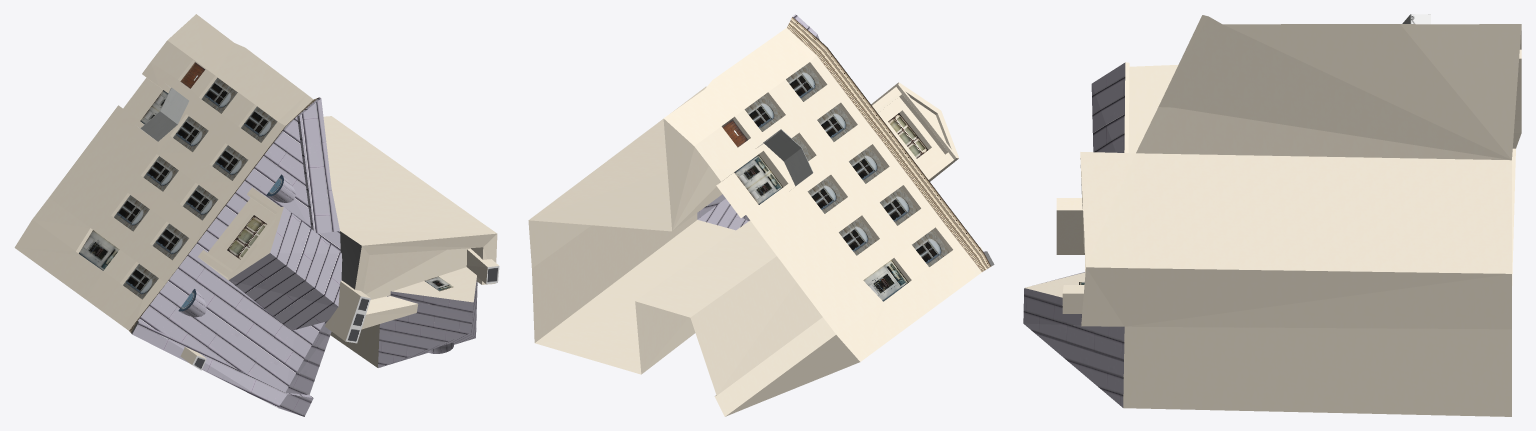
Rendered from Lyhike_jalg_5.obj.
3 views of the same model, side by side, from view 1: azimuth 30°, elevation 25°; view 2: azimuth 150°, elevation 25°; view 3: azimuth 270°, elevation 25° (orthographic). The views are drawn at different scales.
Parts seen in each view (by area): view 1: Lyhike_jalg_5; view 2: Lyhike_jalg_5; view 3: Lyhike_jalg_5.
Part boxes in pixels (left/top/right/bottom): Lyhike_jalg_5: left=14, top=14, right=499, bottom=416; Lyhike_jalg_5: left=528, top=14, right=994, bottom=416; Lyhike_jalg_5: left=1023, top=14, right=1521, bottom=416.
Bounding box in the file's own units: 15.69 × 13.08 × 16.55.
